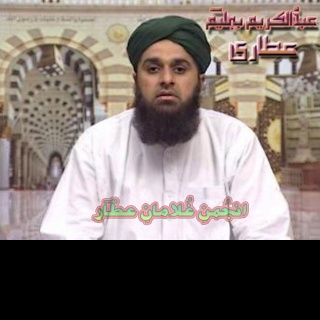without_mask: (135, 38, 199, 118)
